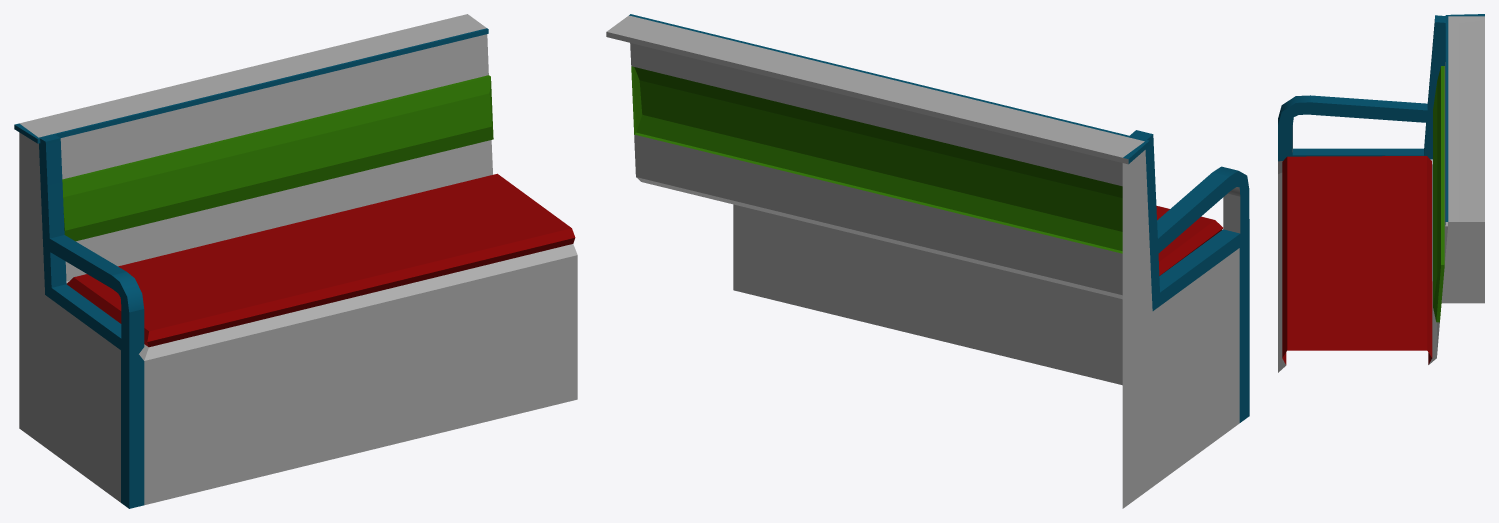
The model's file is BenchChair23.fbx.
3 views of the same model, side by side, from view 1: azimuth 30°, elevation 25°; view 2: azimuth 150°, elevation 25°; view 3: azimuth 270°, elevation 25° (orthographic). The views are drawn at different scales.
Visible parts, largest first — view 1: pCube1; view 2: pCube1; view 3: pCube1.
Boxes of the visible parts, box(x1,y1,x2,y2) form: pCube1: box(14, 14, 577, 508); pCube1: box(606, 14, 1249, 508); pCube1: box(1278, 14, 1484, 372).
Size of the model in its own units: 202 by 130 by 85.
